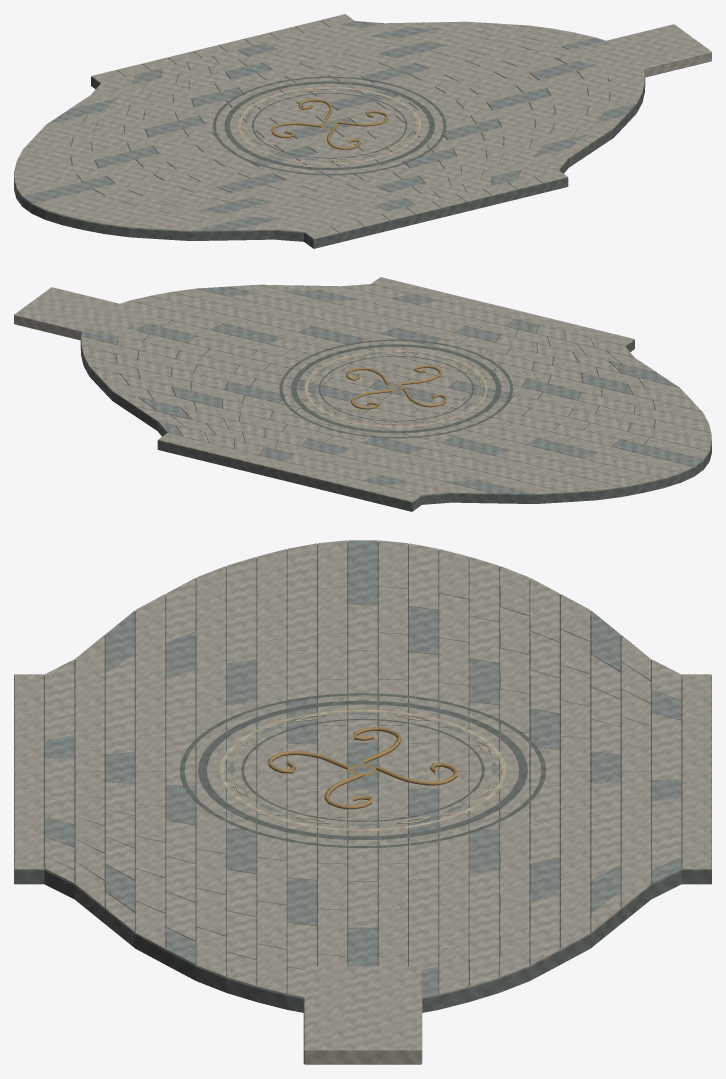
3 renders of one model, top to bottom at view 1: azimuth 30°, elevation 25°; view 2: azimuth 150°, elevation 25°; view 3: azimuth 270°, elevation 25°, orthographic. The views are drawn at different scales.
Parts seen in each view (by area): view 1: C10_stone, C10_cool, C10_joint, C10_relief, C10_motif; view 2: C10_stone, C10_cool, C10_joint, C10_relief, C10_motif; view 3: C10_stone, C10_cool, C10_joint, C10_relief, C10_motif.
Boxes of the visible parts, left/top/right/bottom form: C10_stone: left=14, top=14, right=711, bottom=239; C10_cool: left=23, top=21, right=635, bottom=231; C10_joint: left=14, top=56, right=645, bottom=248; C10_relief: left=238, top=87, right=420, bottom=164; C10_motif: left=271, top=99, right=387, bottom=149; C10_stone: left=14, top=277, right=711, bottom=502; C10_cool: left=81, top=286, right=702, bottom=494; C10_joint: left=80, top=319, right=711, bottom=511; C10_relief: left=305, top=350, right=487, bottom=427; C10_motif: left=346, top=365, right=446, bottom=409; C10_stone: left=14, top=540, right=711, bottom=1064; C10_cool: left=44, top=540, right=681, bottom=997; C10_joint: left=14, top=541, right=711, bottom=1012; C10_relief: left=219, top=709, right=506, bottom=830; C10_motif: left=268, top=727, right=457, bottom=809.
Bounding box in the file's own units: 24.18 × 0.4604 × 14.
5 materials, 4 textured.
